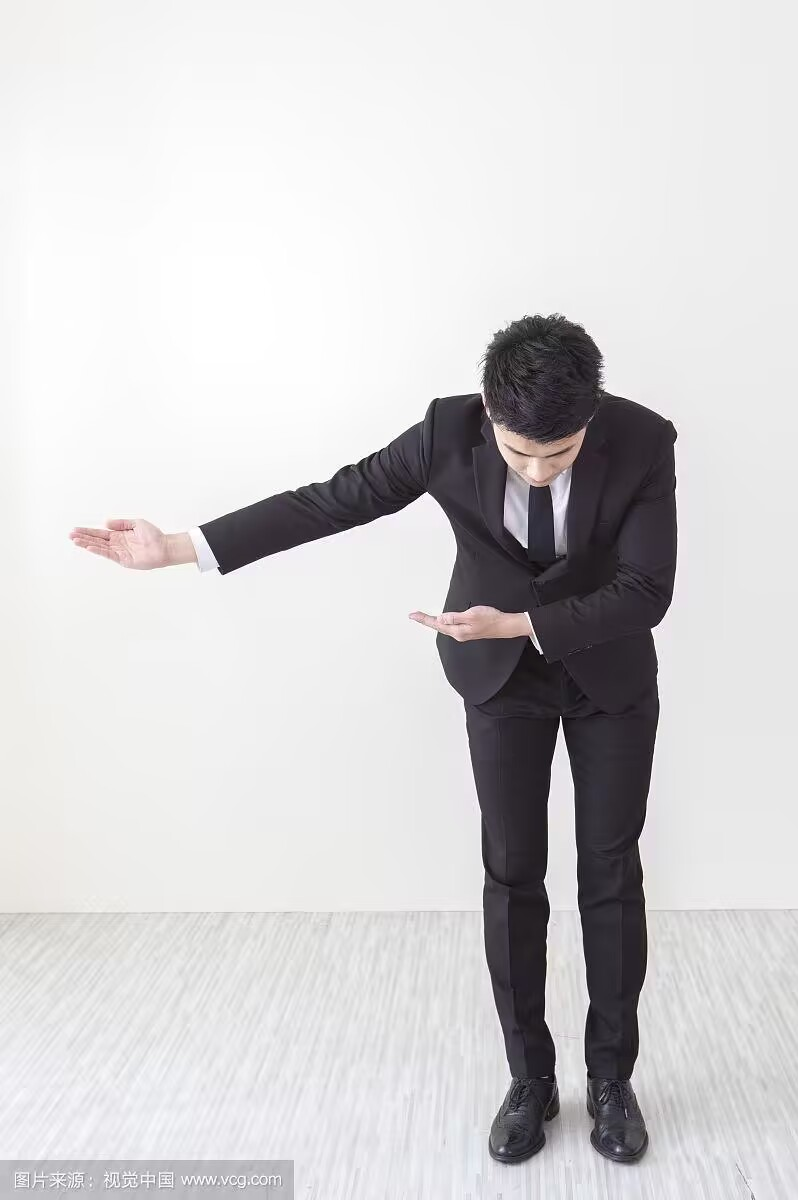bending: (60, 304, 711, 1176)
